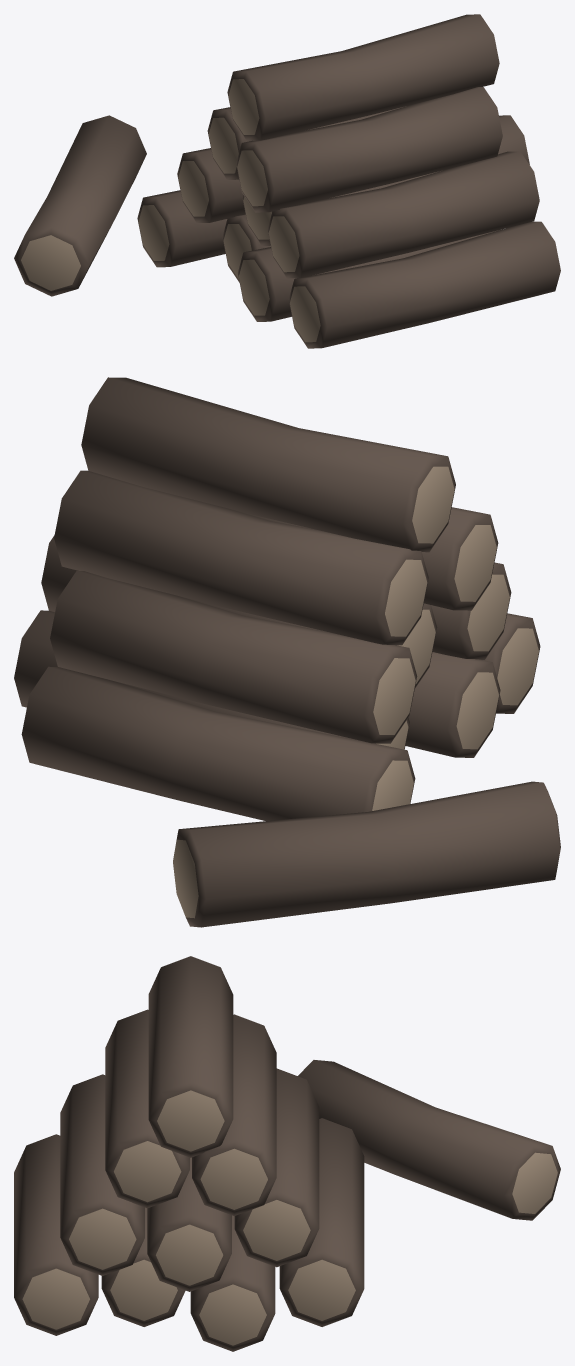
Rendered from logs.glb.
3 views of the same model, one above another, from view 1: azimuth 30°, elevation 25°; view 2: azimuth 150°, elevation 25°; view 3: azimuth 270°, elevation 25° (orthographic). The views are drawn at different scales.
Parts seen in each view (by area): view 1: logs; view 2: logs; view 3: logs.
Part boxes in pixels (box(x1,y1,x2,y2)): logs: box(14, 14, 560, 348); logs: box(14, 377, 560, 927); logs: box(14, 956, 560, 1351).
Bounding box in the file's own units: 1.31 × 0.6777 × 1.32.
Materials: 1 (1 with a texture image).
